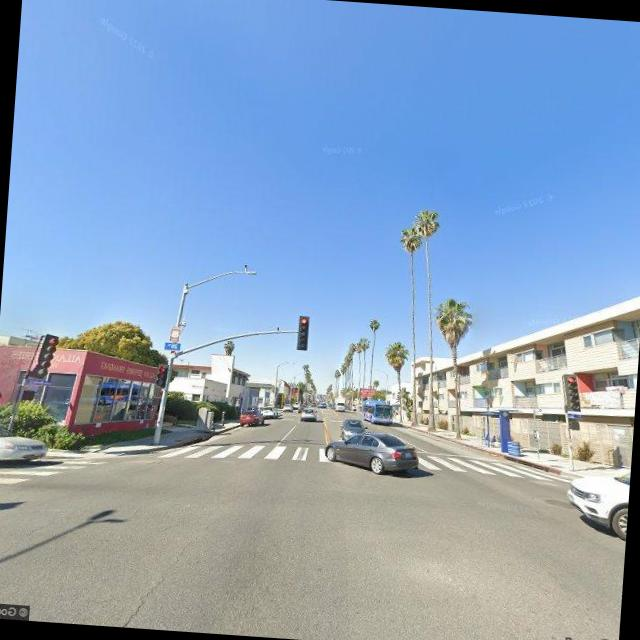pothole: (96, 536, 193, 630)
